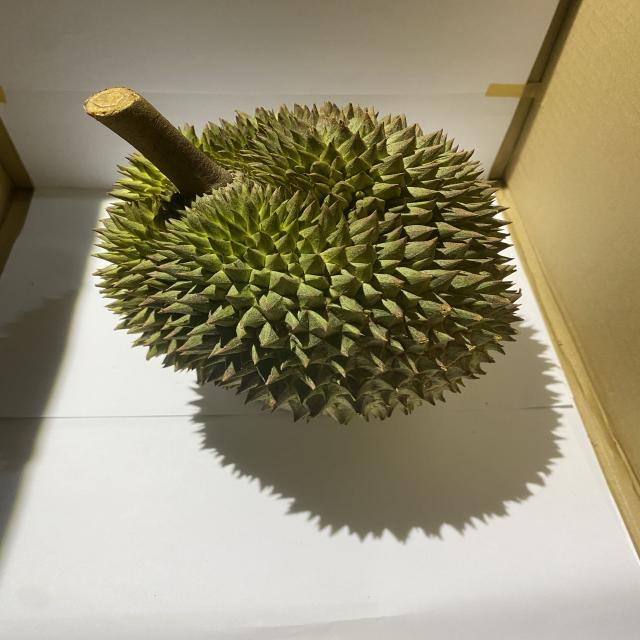immature: (88, 99, 527, 426)
